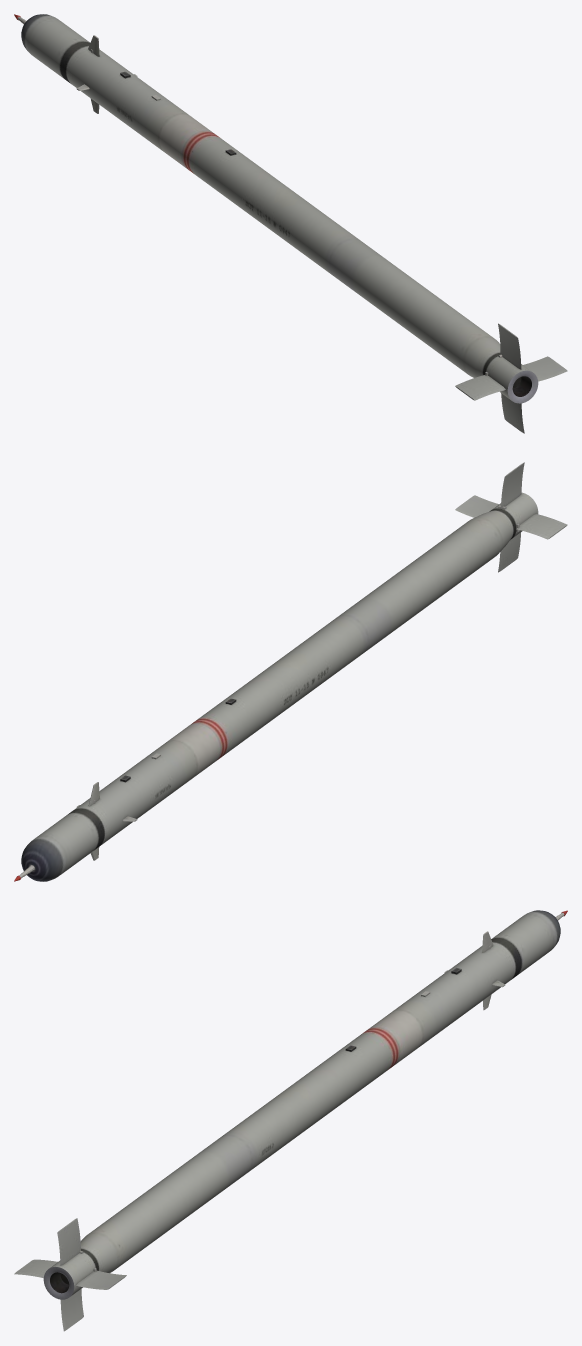
Rendered from msl_verba.glb.
The picture shows the model from 3 angles, top to bottom: view 1: azimuth 30°, elevation 25°; view 2: azimuth 150°, elevation 25°; view 3: azimuth 330°, elevation 25°; orthographic projection.
Visible parts, largest first — view 1: body|VRB_M; view 2: body|VRB_M; view 3: body|VRB_M.
Boxes of the visible parts, box(x1,y1,x2,y2) form: body|VRB_M: box(14, 14, 567, 433); body|VRB_M: box(14, 462, 567, 881); body|VRB_M: box(14, 910, 567, 1331).
Size of the model in its own units: 0.173 by 0.173 by 1.64.
1 material, 1 textured.
